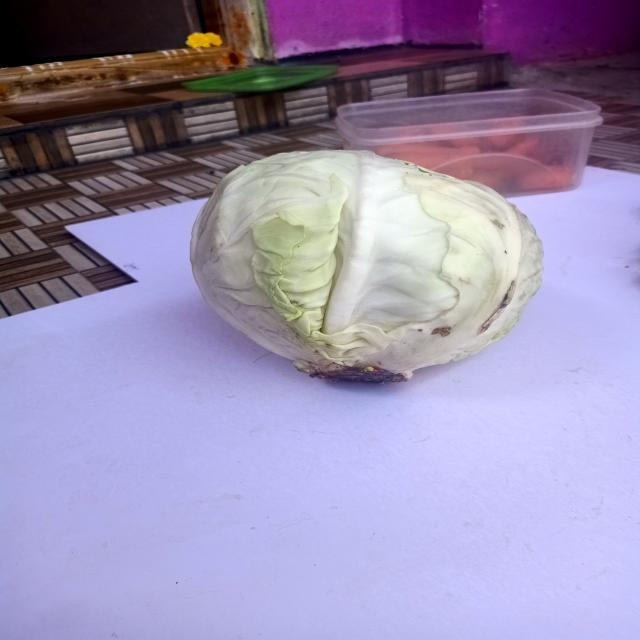Cabbage: (166, 140, 552, 404)
